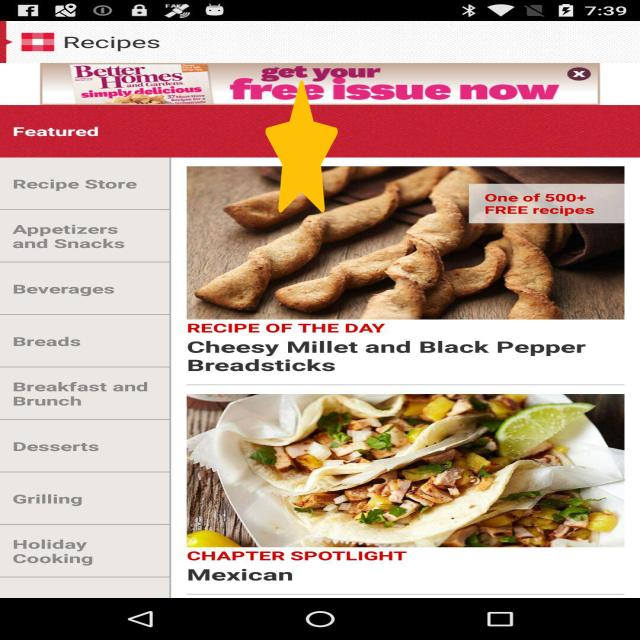forced continuity: (265, 80, 338, 213)
